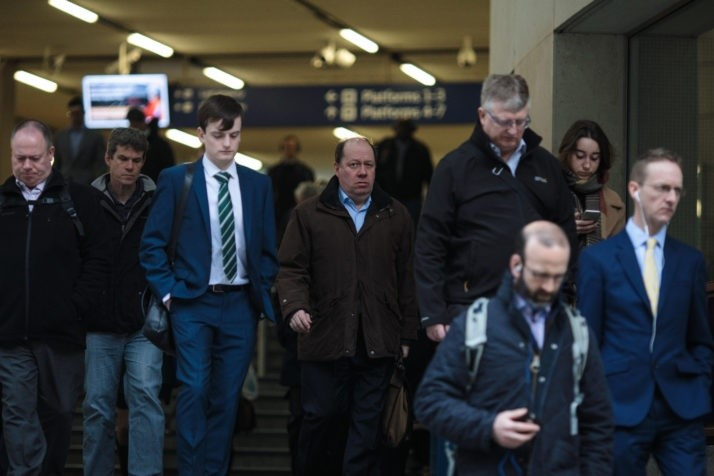face_no_mask: (631, 149, 686, 232), (516, 225, 569, 311), (562, 120, 614, 180), (197, 93, 242, 161), (11, 120, 55, 186), (106, 125, 147, 184), (334, 137, 374, 195)
